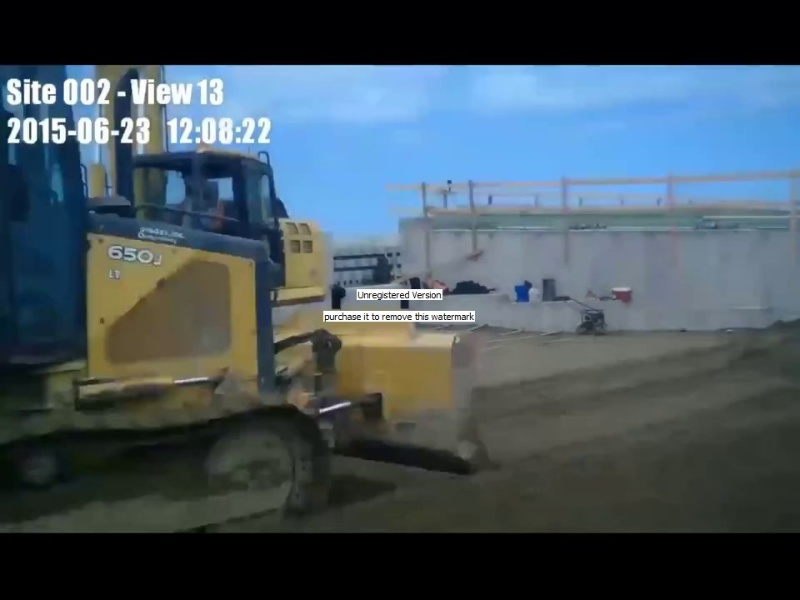bulldozer: (1, 64, 492, 533)
wood: (383, 171, 800, 225)
